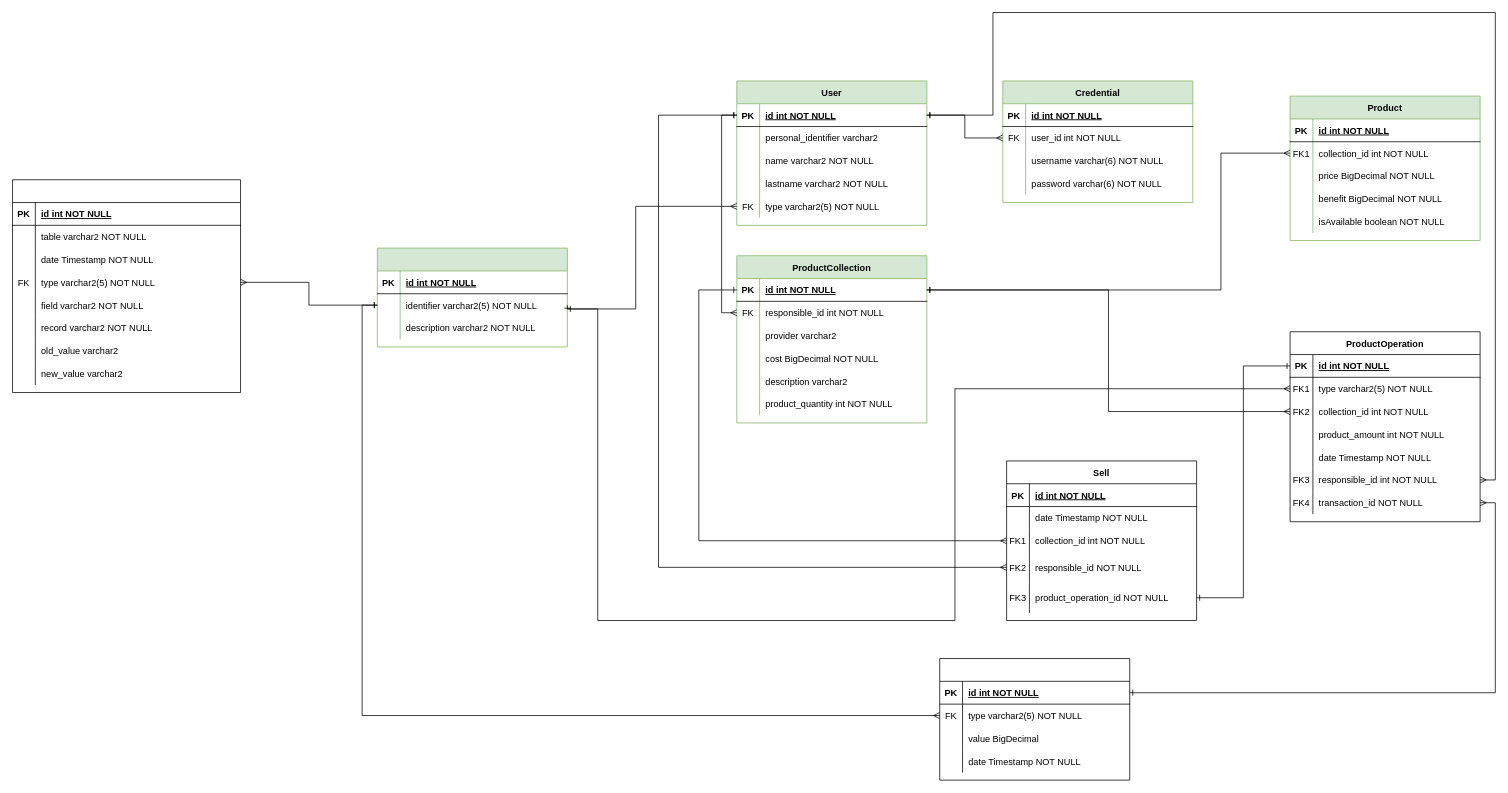
The diagram is 1508 pixels wide and 793 high, and some of its shapes have lost their labels. The shapes that lost their labels are listed below. From the top down, each one's box as (x1, y1, x2, y2) in pixels, then its label:
(12, 179, 241, 393): Crud_Log
(377, 247, 567, 347): Type
(939, 658, 1130, 780): Transaction
